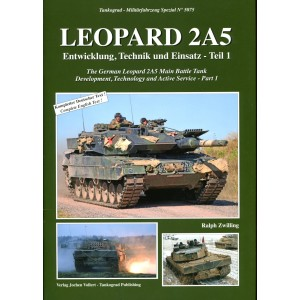Battle Tank: (62, 110, 236, 210), (162, 239, 235, 287)
